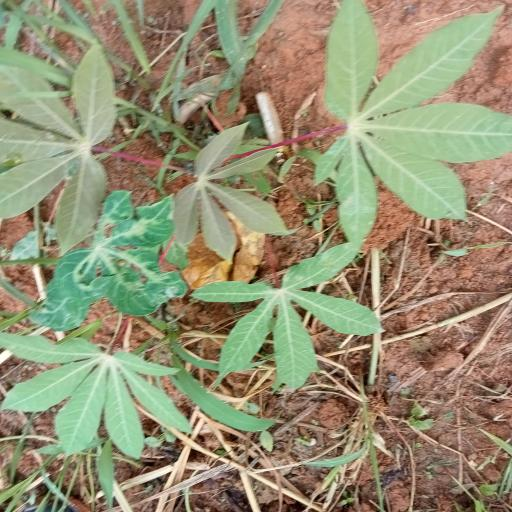Cassava_Mosaic: (202, 248, 378, 382), (3, 329, 174, 457), (46, 195, 184, 327)
